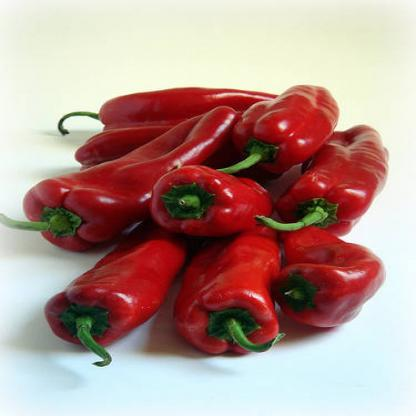--: (17, 94, 238, 257), (208, 60, 352, 181), (278, 115, 388, 238), (145, 154, 277, 250)
